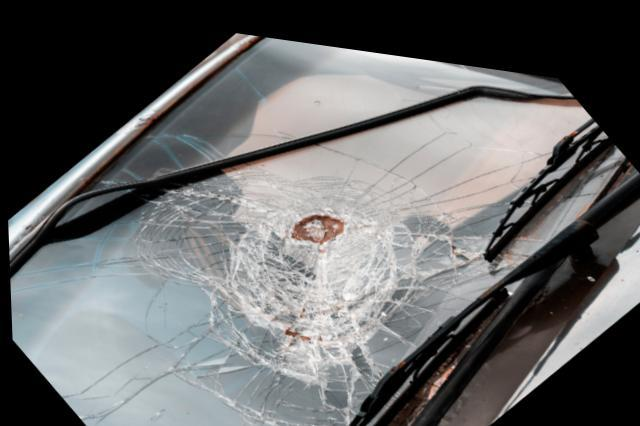glass shatter: (8, 29, 625, 426)
